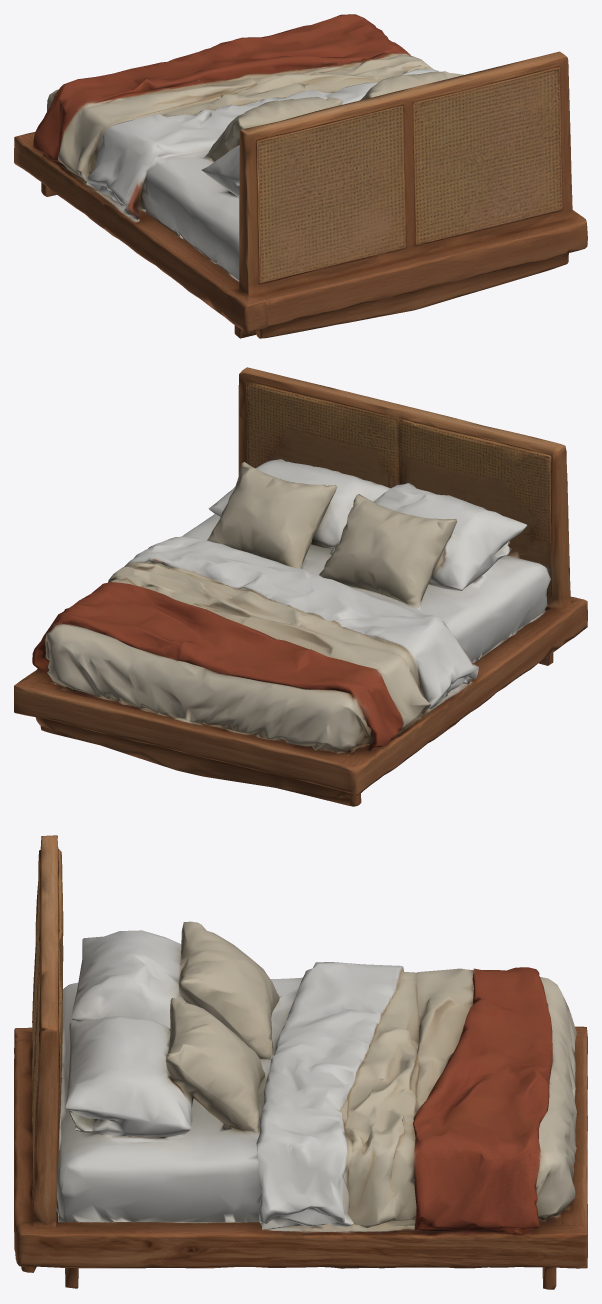
The model's file is bed.glb.
3 views of the same model, one above another, from view 1: azimuth 30°, elevation 25°; view 2: azimuth 150°, elevation 25°; view 3: azimuth 270°, elevation 25° (orthographic). The views are drawn at different scales.
Parts seen in each view (by area): view 1: tripo_node_e4b85694-8ffc-4dfd-8851-271ae7698063; view 2: tripo_node_e4b85694-8ffc-4dfd-8851-271ae7698063; view 3: tripo_node_e4b85694-8ffc-4dfd-8851-271ae7698063.
Part boxes in pixels (x1,y1,x2,y2): tripo_node_e4b85694-8ffc-4dfd-8851-271ae7698063: [14, 14, 587, 338]; tripo_node_e4b85694-8ffc-4dfd-8851-271ae7698063: [14, 367, 587, 806]; tripo_node_e4b85694-8ffc-4dfd-8851-271ae7698063: [14, 835, 587, 1289].
Bounding box in the file's own units: 2.1 × 1.2 × 2.37.
1 material, 1 textured.
